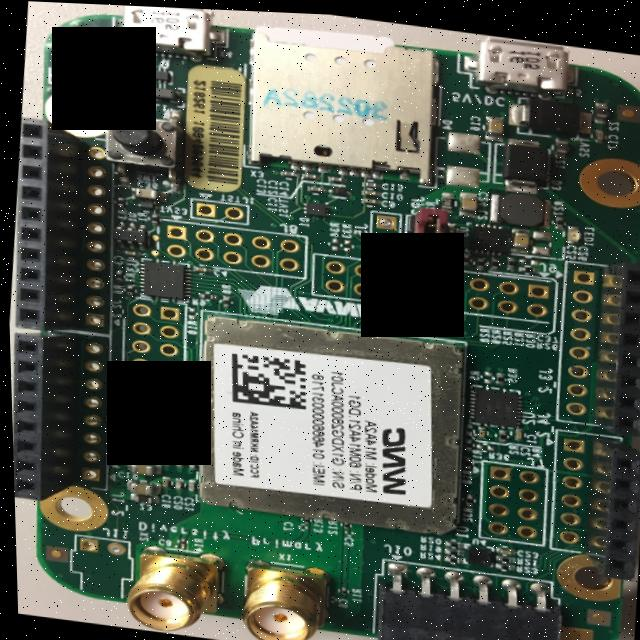-component text- -16 105-: (504, 42, 541, 66), (144, 5, 179, 30)
-component text- -DAV88 808V0-: (114, 228, 139, 239)
-component text- -FCC ID- NKRM14A2A Made In China-: (221, 405, 262, 477)
-component text- -WNC Model- M14A2A P-N- 60M14A21-DG1 S-N- G1XDG28000ACJ01 IMEI-: (296, 362, 415, 495)
-component text- -YF08E T1 63K A6QN-: (479, 390, 511, 417)
-component text- 302282A: (258, 81, 393, 121)
-component text- x10: (440, 193, 449, 202)
-zener diode- Z1: (552, 132, 568, 153)
-zener diode- Z2: (590, 97, 609, 118)
2005: (444, 247, 454, 261)
2016: (456, 247, 471, 262)
2024: (114, 195, 125, 208)
2025: (503, 252, 514, 265)
2031: (486, 251, 498, 267)
2033: (458, 489, 471, 503)
2045: (492, 368, 502, 381)
2080: (493, 425, 505, 438)
2189: (111, 267, 121, 279)
2200: (122, 283, 133, 294)
2211: (218, 294, 229, 306)
2222: (196, 291, 212, 298)
2292: (447, 85, 505, 104)
2391: (103, 488, 126, 518)
2392: (107, 297, 122, 318)
2393: (531, 360, 554, 392)
2394: (530, 406, 551, 433)
2395: (407, 189, 437, 214)
2591: (104, 49, 169, 69)
2647: (183, 116, 205, 179)
2709: (187, 75, 207, 115)
2831: (292, 292, 407, 322)
2844: (521, 428, 534, 438)
2845: (377, 187, 402, 197)
2856: (262, 193, 276, 209)
2867: (263, 176, 277, 192)
2878: (251, 174, 265, 191)
2889: (275, 177, 288, 193)
2900: (379, 177, 402, 188)
2911: (466, 110, 480, 127)
2922: (605, 127, 618, 144)
2933: (155, 491, 167, 506)
2944: (112, 469, 135, 478)
2955: (514, 441, 528, 451)
2956: (167, 493, 179, 508)
2967: (178, 494, 191, 509)
2978: (441, 231, 454, 248)
2989: (511, 543, 535, 554)
3000: (474, 185, 487, 203)
3011: (561, 238, 574, 255)
3021: (573, 239, 586, 256)
3027: (109, 443, 124, 459)
3036: (158, 413, 169, 429)
3047: (171, 414, 182, 430)
3057: (109, 253, 121, 264)
3058: (181, 415, 192, 431)
3069: (130, 415, 154, 426)
3079: (158, 396, 171, 412)
3089: (171, 398, 182, 413)
3100: (182, 399, 193, 414)
3120: (133, 179, 157, 187)
3127: (532, 328, 557, 339)
3153: (209, 266, 225, 276)
3188: (337, 532, 350, 544)
3199: (331, 594, 344, 605)
3210: (276, 516, 290, 530)
3221: (152, 536, 168, 545)
3232: (377, 196, 394, 205)
3269: (295, 213, 308, 224)
3280: (119, 64, 132, 75)
3287: (546, 172, 563, 186)
3288: (438, 114, 452, 126)
3325: (130, 517, 230, 540)
3490: (376, 538, 410, 553)
3491: (95, 524, 126, 538)
3514: (349, 217, 367, 233)
3515: (116, 391, 134, 406)
3516: (520, 450, 542, 463)
3517: (275, 218, 298, 231)
3518: (534, 255, 555, 268)
3561: (149, 100, 166, 110)
3563: (473, 203, 487, 216)
3574: (579, 220, 594, 241)
3752: (243, 530, 321, 551)
3753: (124, 209, 136, 221)
3766: (133, 210, 146, 221), (467, 444, 479, 454)
3767: (182, 318, 195, 333)
3778: (344, 584, 359, 599)
3789: (321, 516, 335, 532)
3800: (306, 514, 321, 531)
3811: (187, 535, 201, 551)
3855: (456, 465, 468, 480)
3866: (412, 538, 437, 548)
3877: (503, 439, 516, 450)
3878: (413, 530, 438, 541)
3889: (510, 551, 535, 562)
3911: (510, 560, 535, 570)
3921: (412, 546, 438, 557)
3932: (497, 325, 511, 341)
3943: (532, 335, 556, 346)
3954: (550, 194, 563, 211)
3965: (473, 323, 487, 338)
3976: (486, 323, 499, 340)
3985: (112, 207, 125, 219)
3986: (521, 327, 532, 343)
3993: (509, 326, 522, 341)
3997: (456, 502, 470, 517)
4001: (337, 219, 351, 236)
4006: (325, 217, 338, 235)
4010: (502, 362, 516, 378)
4018: (484, 447, 506, 456)
4046: (526, 442, 541, 453)
4122: (464, 364, 477, 376)
4157: (109, 282, 120, 293)
4168: (120, 270, 133, 281)
4179: (215, 280, 231, 293)
4190: (187, 295, 204, 305)
4238: (44, 63, 126, 93)
4266: (131, 171, 156, 181)
4333: (216, 190, 254, 202)
4334: (273, 194, 288, 216)
4335: (574, 131, 592, 153)
4336: (155, 201, 186, 214)
4341: (449, 520, 466, 533)
4352: (517, 405, 532, 421)
4363: (120, 257, 138, 271)
4367: (465, 533, 482, 540)
4368: (454, 222, 468, 233)
4405: (272, 549, 287, 560)
4408: (133, 529, 146, 540)
4409: (246, 166, 264, 176)
4410: (214, 46, 234, 57)
4411: (564, 81, 581, 92)
4428: (550, 152, 565, 164)
4429: (605, 115, 620, 126)
4430: (132, 500, 148, 510)
4431: (104, 457, 117, 468)
4432: (106, 433, 118, 444)
4440: (109, 220, 148, 249)
4491: (125, 492, 154, 502)
4492: (122, 458, 157, 475)
4493: (121, 434, 158, 451)
button SW1: (100, 98, 187, 191)
capacitor C10: (509, 423, 521, 436)
capacitor C100: (358, 186, 378, 195)
capacitor C110: (302, 181, 324, 191)
capacitor C120: (298, 169, 316, 177)
capacitor C130: (276, 166, 298, 176)
capacitor C140: (324, 172, 345, 181)
capacitor C150: (359, 176, 379, 185)
capacitor C160: (483, 110, 503, 137)
capacitor C170: (594, 124, 605, 138)
capacitor C180: (157, 475, 167, 488)
capacitor C190: (121, 477, 156, 495)
capacitor C20: (471, 420, 483, 436)
capacitor C200: (170, 476, 179, 489)
capacitor C210: (182, 477, 194, 490)
capacitor C220: (444, 217, 454, 233)
capacitor C230: (491, 541, 511, 551)
capacitor C240: (456, 187, 477, 213)
capacitor C250: (507, 222, 528, 250)
capacitor C280: (158, 451, 167, 464)
capacitor C290: (170, 453, 180, 466)
capacitor C30: (119, 247, 138, 256)
capacitor C300: (183, 455, 193, 468)
capacitor C310: (126, 424, 158, 436)
capacitor C321: (158, 430, 168, 444)
capacitor C330: (171, 432, 181, 446)
capacitor C340: (184, 433, 194, 446)
capacitor C362: (129, 184, 167, 201)
capacitor C40: (189, 262, 208, 271)
capacitor C90: (358, 193, 376, 202)
connector -J2_2-: (7, 321, 115, 507)
connector -J3_2-: (3, 116, 120, 333)
connector -J4_2-: (547, 253, 640, 431)
connector -Port 1-: (540, 423, 640, 575)
connector J11: (362, 552, 561, 640)
connector J12: (61, 533, 131, 600)
connector J6: (364, 206, 400, 250)
connector J7: (113, 294, 186, 397)
connector J8: (470, 455, 546, 541)
connector J9: (154, 216, 307, 277)
connector JN: (308, 248, 556, 320)
connector U2: (185, 195, 248, 222)
connector X13: (233, 555, 327, 640)
connector X3: (118, 541, 223, 637)
connector X4: (236, 16, 447, 184)
connector X5: (108, 4, 228, 60)
connector X6: (455, 28, 579, 96)
diode D10: (300, 197, 328, 213)
diode D21: (131, 65, 173, 82)
diode D4: (488, 130, 549, 192)
diode TVS2: (325, 182, 350, 195)
diode TVS3: (512, 91, 580, 135)
diode unknown: (134, 199, 157, 209)
ic U1: (179, 306, 469, 533)
ic U2: (465, 380, 518, 425)
ic U3: (135, 256, 189, 300)
ic U4: (459, 538, 489, 562)
ic U5: (464, 218, 504, 250)
inductor L10: (142, 83, 183, 104)
inductor L3 -3R3 X4-: (485, 184, 550, 224)
jumper JP2: (400, 201, 445, 254)
led LED1: (564, 219, 579, 239)
pads C26: (528, 224, 550, 253)
pads C37: (516, 252, 536, 261)
pads C5: (339, 526, 351, 532)
pads C6: (324, 593, 331, 600)
pads C7: (292, 521, 305, 527)
pads C8: (169, 542, 181, 548)
pads D4: (439, 126, 481, 184)
pads R10: (184, 305, 194, 319)
pads R33: (339, 235, 350, 251)
pads R34: (324, 234, 339, 248)
pads R36: (470, 437, 492, 448)
pads R5: (479, 365, 489, 380)
resistor R10: (148, 210, 158, 224)
resistor R110: (335, 583, 344, 592)
resistor R120: (338, 518, 346, 526)
resistor R130: (299, 513, 306, 520)
resistor R140: (174, 537, 182, 544)
resistor R170: (459, 433, 470, 447)
resistor R180: (458, 452, 467, 466)
resistor R190: (439, 543, 459, 552)
resistor R20: (459, 417, 472, 433)
resistor R200: (439, 536, 459, 545)
resistor R210: (491, 550, 511, 558)
resistor R220: (438, 187, 453, 209)
resistor R230: (490, 558, 511, 566)
resistor R240: (439, 551, 459, 560)
resistor R250: (473, 252, 485, 266)
resistor R260: (515, 259, 537, 268)
resistor R270: (551, 211, 564, 226)
